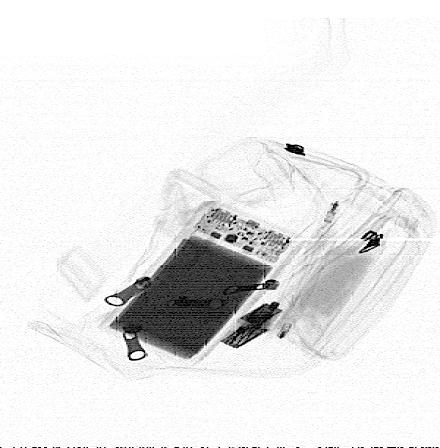Powerbank: (104, 201, 304, 365)
